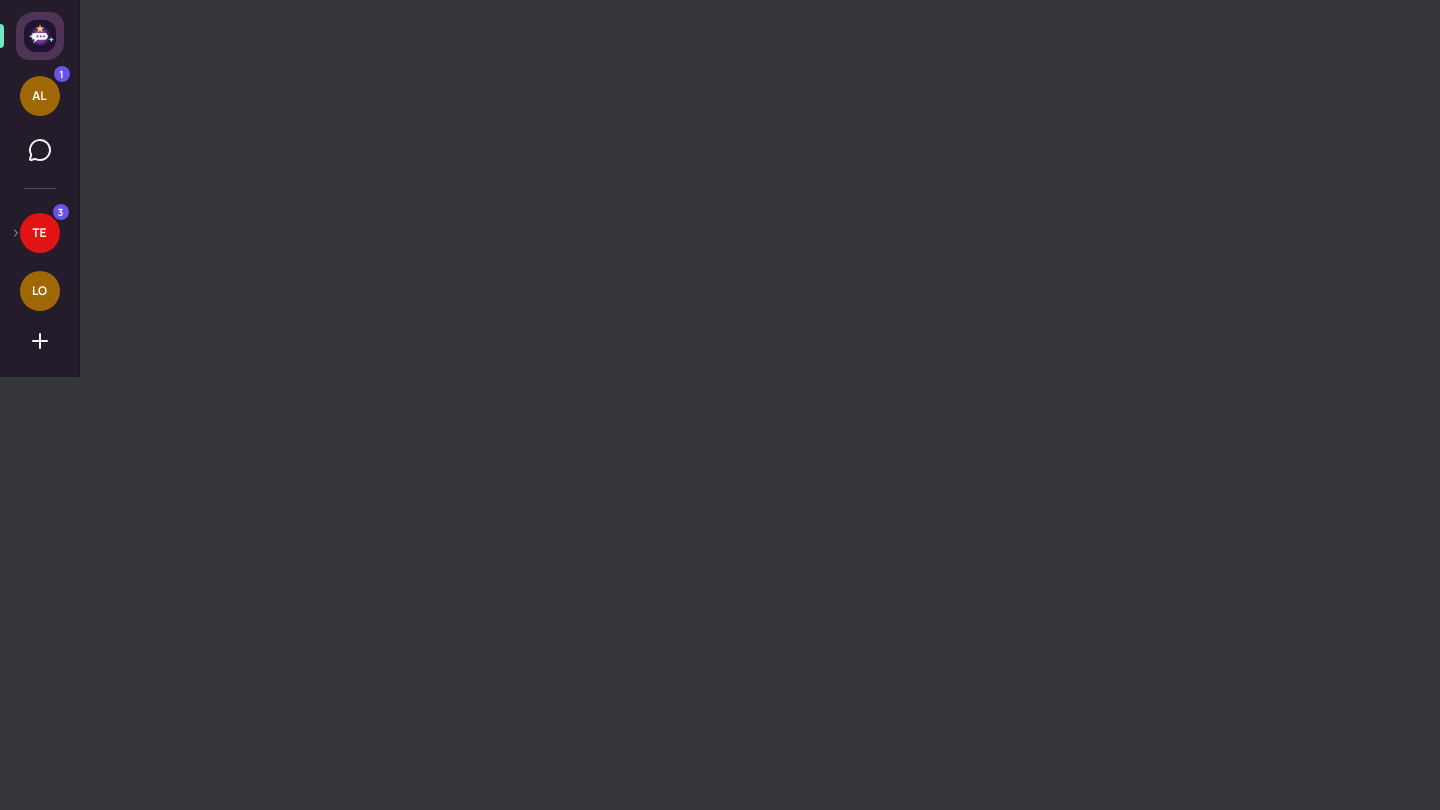
Scenario: SpaceRail › opens the Add Existing dialog for a space from its context menu
Right-click the button with aria-label "TE 3, Team, 1 unread, 3 mentions" at (40, 233), box x1=14 y1=207 x2=66 y2=259
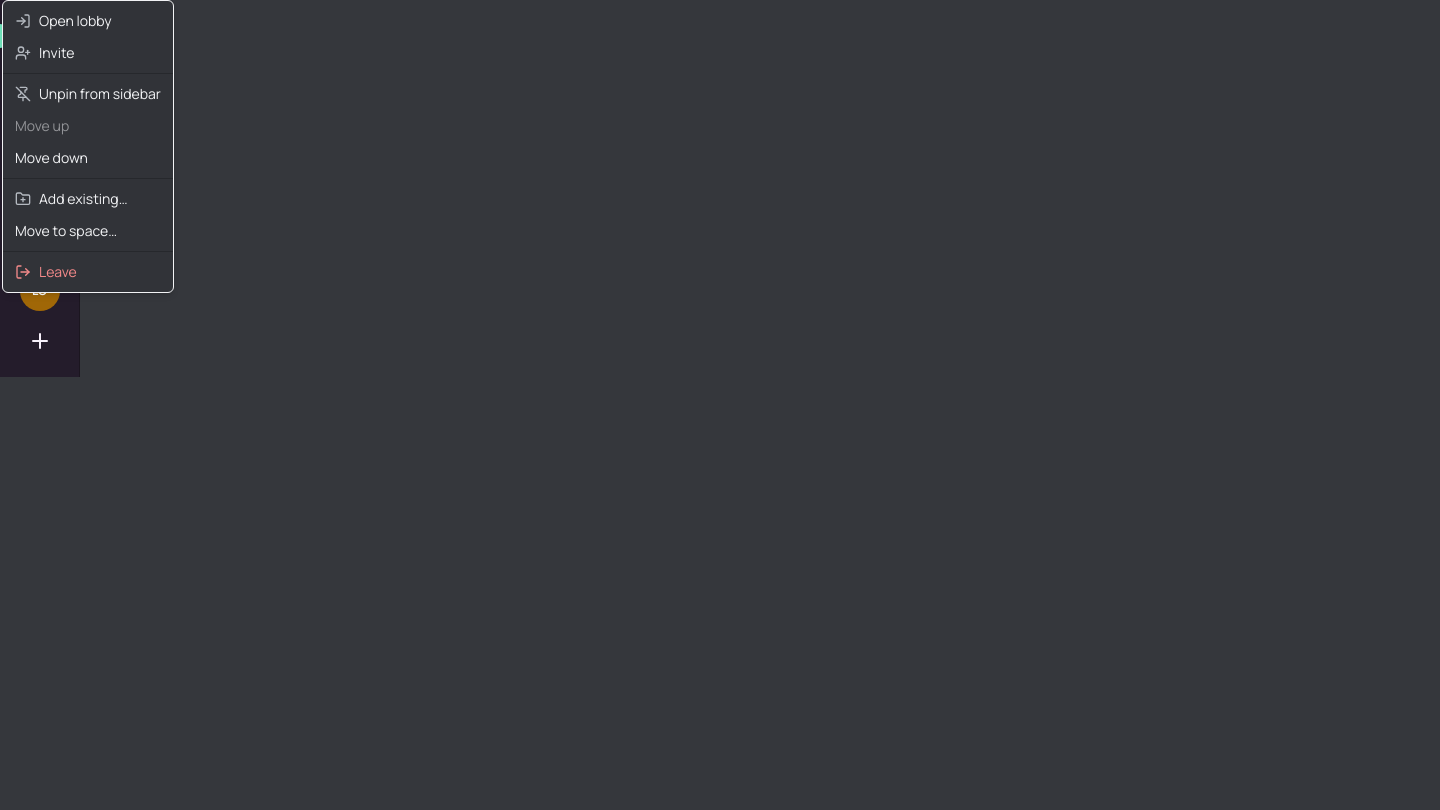
Click the menu item "Add existing…" at (71, 198), box x1=15 y1=189 x2=128 y2=208
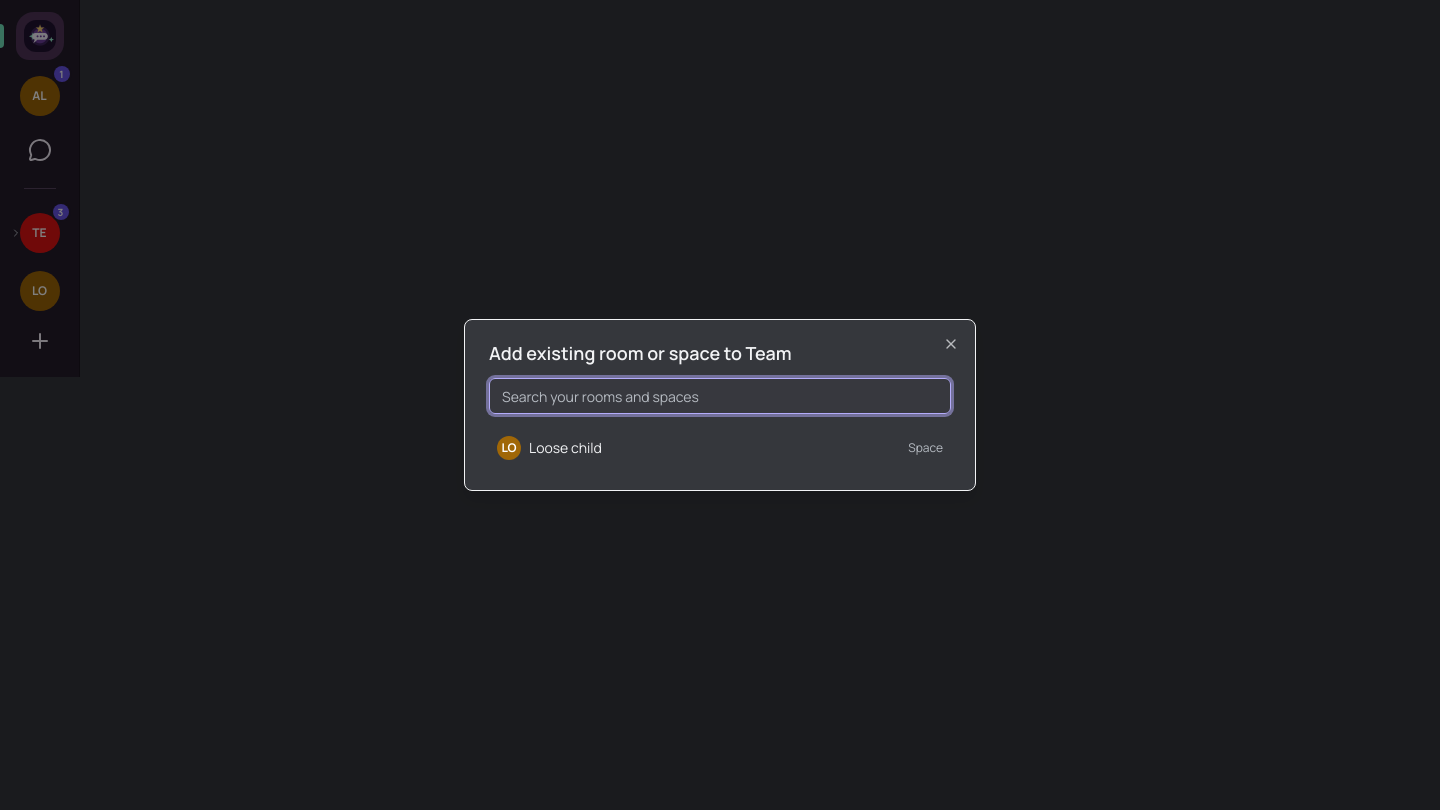
Check: the dialog "Add existing room or space to Team" is shown, box x1=464 y1=319 x2=976 y2=491
